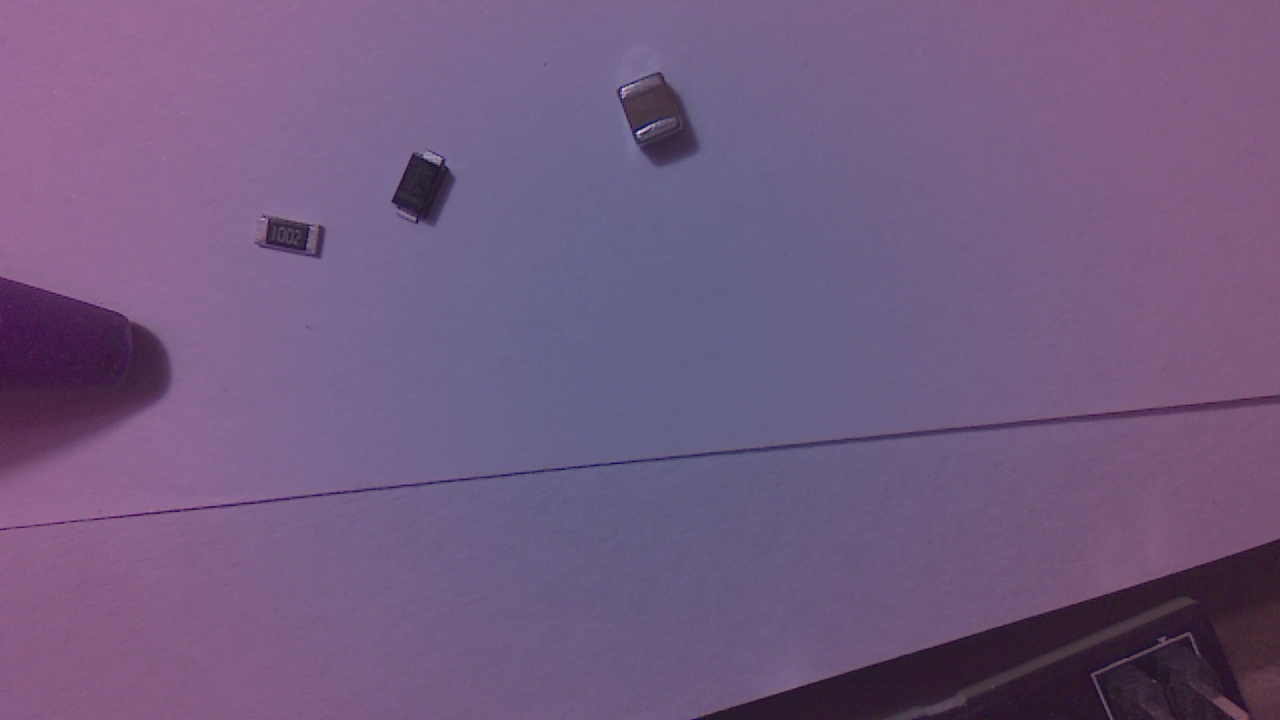Condensator: (621, 78, 692, 154)
Diode: (395, 157, 455, 230)
Resistor: (258, 218, 330, 262)
